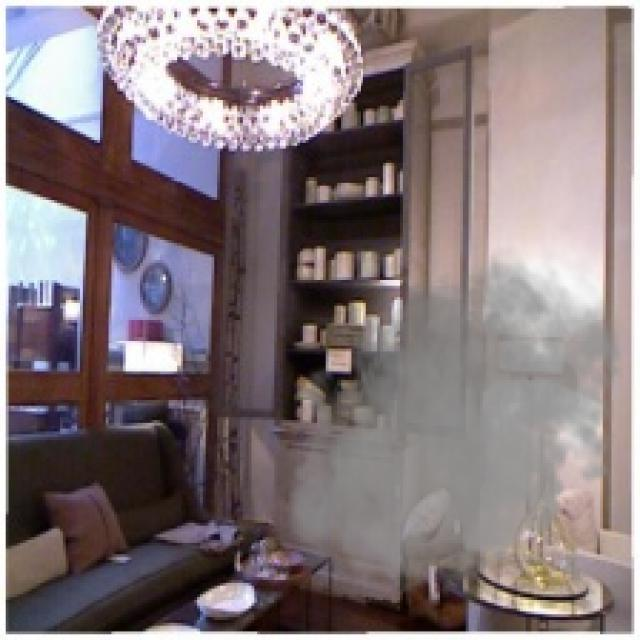Smoke: (282, 234, 634, 603)
